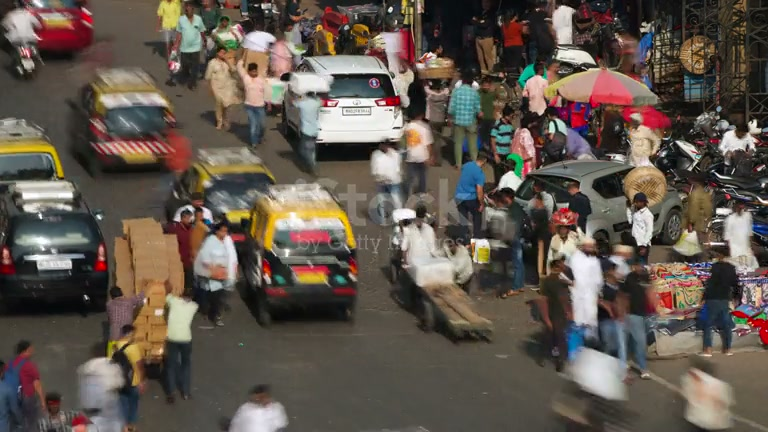car: (236, 180, 359, 328), (513, 158, 687, 245), (0, 196, 111, 314), (69, 67, 188, 176), (281, 54, 405, 157), (164, 145, 277, 233), (0, 117, 66, 183), (21, 1, 95, 57)
motorcycle: (392, 216, 496, 345), (7, 37, 39, 80)
pedestrian: (193, 220, 238, 327), (161, 282, 199, 404), (699, 244, 738, 356), (567, 237, 604, 354), (4, 339, 48, 431), (109, 328, 146, 432), (447, 72, 484, 167), (453, 148, 490, 239), (205, 45, 242, 132), (0, 1, 44, 73), (173, 3, 207, 91), (227, 384, 289, 432), (527, 180, 555, 279), (370, 137, 406, 208), (723, 197, 757, 272), (242, 63, 269, 147), (628, 193, 654, 267), (0, 359, 25, 431), (565, 180, 593, 237)
